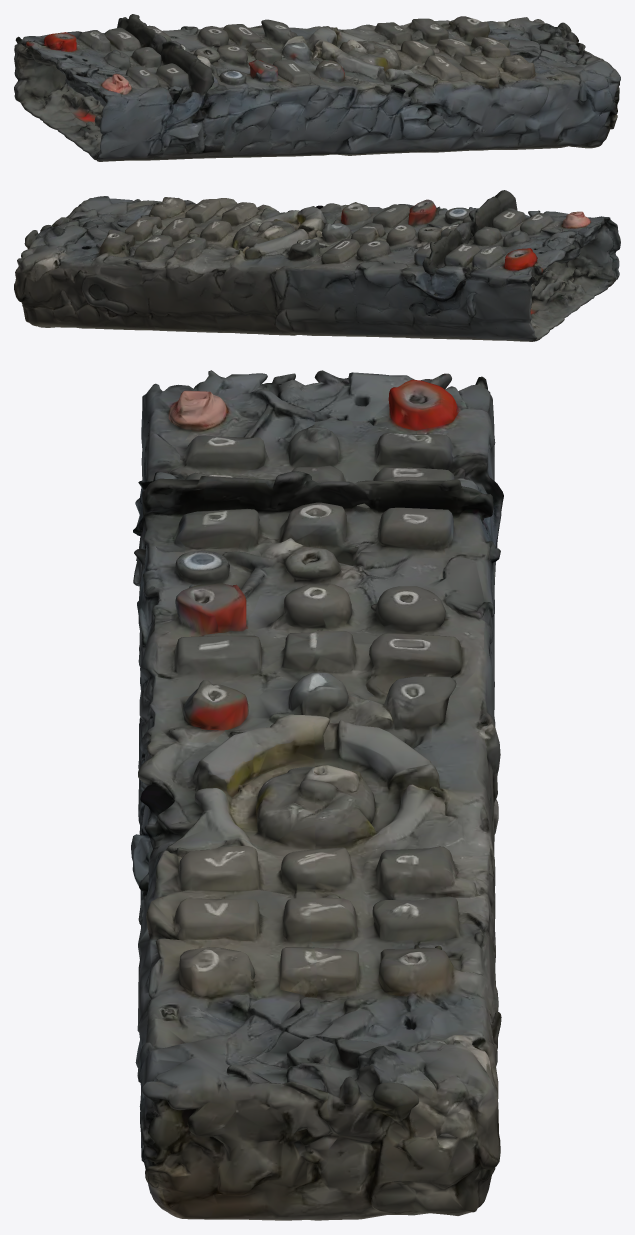
File: remote_v1.glb
3 renders of one model, top to bottom at view 1: azimuth 30°, elevation 25°; view 2: azimuth 150°, elevation 25°; view 3: azimuth 270°, elevation 25°, orthographic. The views are drawn at different scales.
Visible parts, largest first — view 1: tripo_node_2da76341-a08e-402a-b967-d3003ee9320e; view 2: tripo_node_2da76341-a08e-402a-b967-d3003ee9320e; view 3: tripo_node_2da76341-a08e-402a-b967-d3003ee9320e.
Part boxes in pixels (x1,y1,x2,y2): tripo_node_2da76341-a08e-402a-b967-d3003ee9320e: (14, 14, 620, 161); tripo_node_2da76341-a08e-402a-b967-d3003ee9320e: (14, 190, 620, 341); tripo_node_2da76341-a08e-402a-b967-d3003ee9320e: (131, 370, 503, 1220).
Bounding box in the file's own units: 0.9998 × 0.3304 × 0.3037.
1 material, 1 textured.
